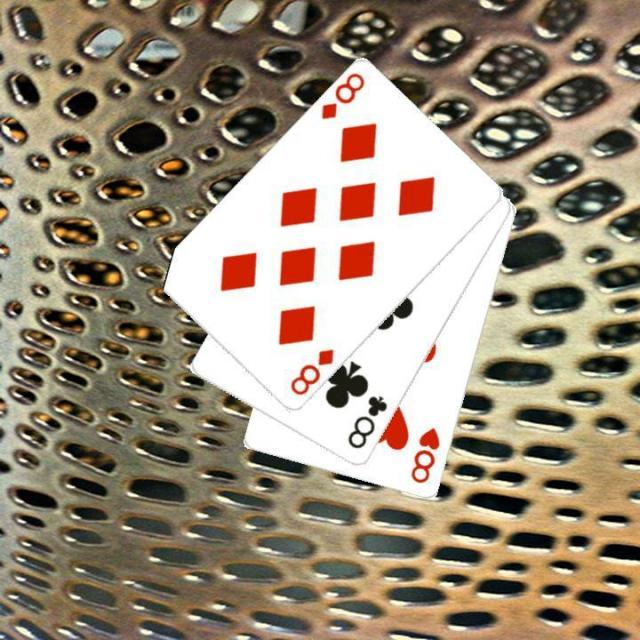8C: (343, 392, 389, 452)
8D: (286, 345, 336, 399), (317, 68, 367, 122)
8H: (407, 424, 441, 486)
